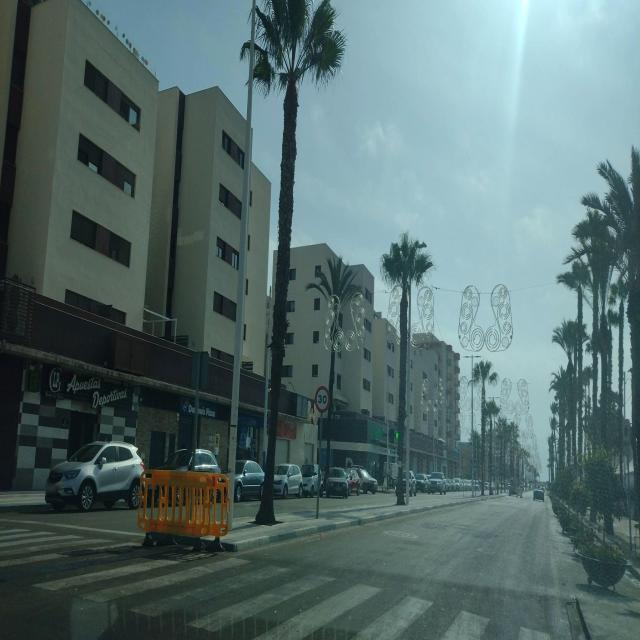car: (45, 439, 145, 512), (227, 459, 265, 500), (273, 463, 302, 498), (300, 462, 324, 496), (324, 468, 349, 498), (354, 468, 378, 494), (394, 470, 416, 495), (428, 474, 445, 493), (414, 472, 430, 492), (532, 487, 544, 502), (453, 479, 463, 490), (463, 479, 472, 489)
